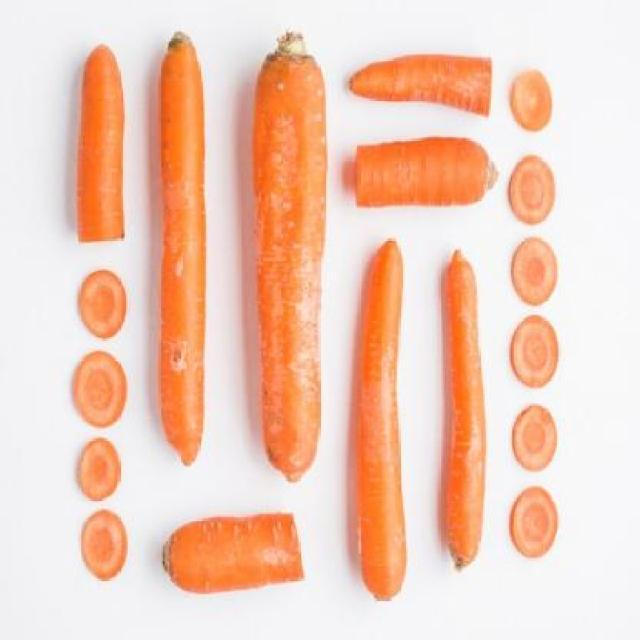carrot: (243, 28, 334, 490), (153, 23, 217, 457), (349, 238, 417, 612), (439, 249, 491, 600), (72, 22, 136, 264), (165, 504, 307, 606), (343, 133, 499, 217), (346, 43, 490, 123)
